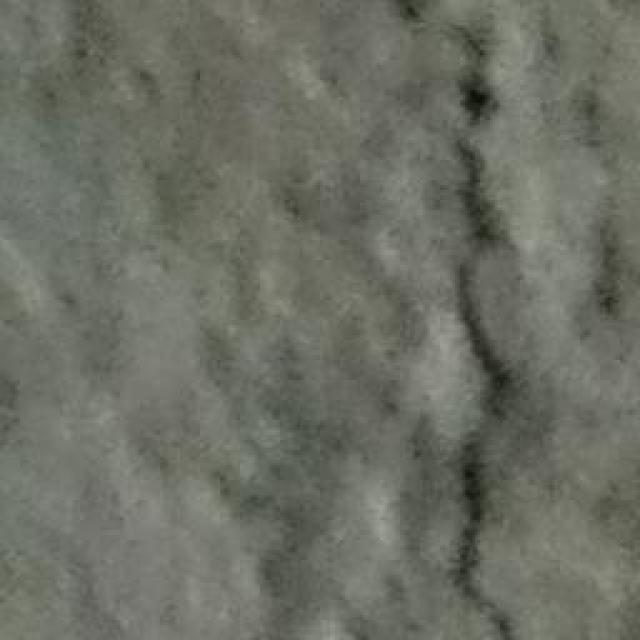Longitudinal: (366, 0, 560, 640)
